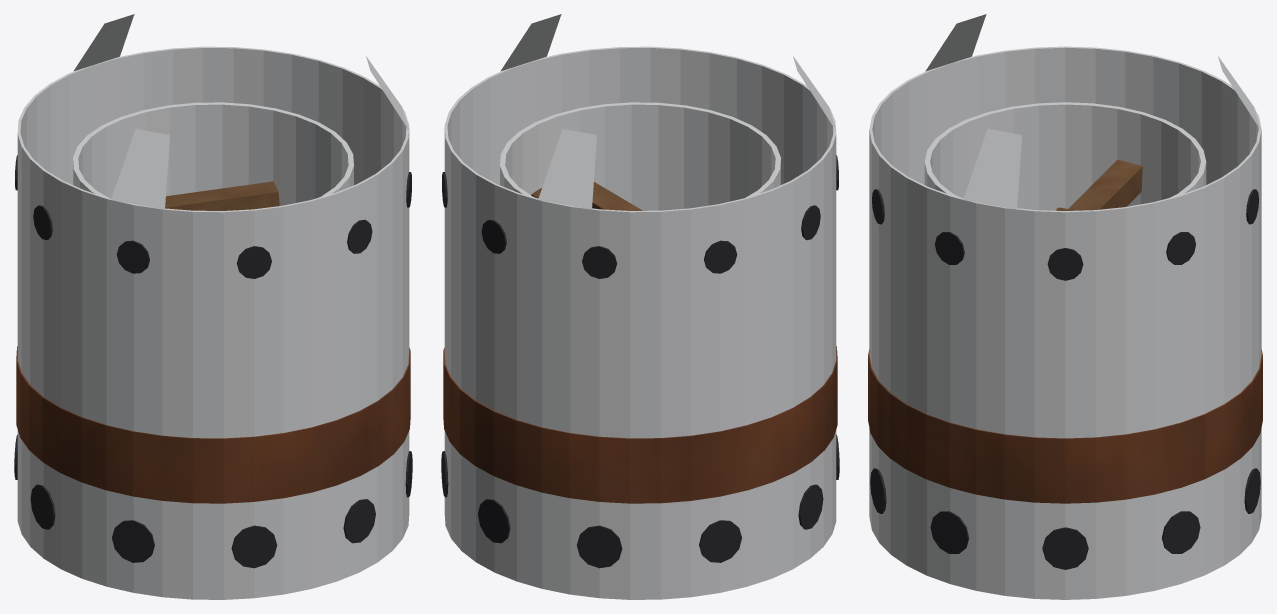
The model's file is fogareiro_lata.glb.
3 views of the same model, side by side, from view 1: azimuth 30°, elevation 25°; view 2: azimuth 150°, elevation 25°; view 3: azimuth 270°, elevation 25° (orthographic).
Visible parts, largest first — view 1: fogareiro_lata_lata, fogareiro_lata_ferrugem, fogareiro_lata_carvao, fogareiro_lata_madeira_lenha; view 2: fogareiro_lata_lata, fogareiro_lata_ferrugem, fogareiro_lata_carvao, fogareiro_lata_madeira_lenha; view 3: fogareiro_lata_lata, fogareiro_lata_ferrugem, fogareiro_lata_carvao, fogareiro_lata_madeira_lenha.
Part boxes in pixels (left/top/right/bottom): fogareiro_lata_lata: left=17, top=14, right=409, bottom=599; fogareiro_lata_ferrugem: left=16, top=346, right=410, bottom=503; fogareiro_lata_carvao: left=14, top=155, right=412, bottom=568; fogareiro_lata_madeira_lenha: left=165, top=181, right=279, bottom=210; fogareiro_lata_lata: left=444, top=14, right=836, bottom=599; fogareiro_lata_ferrugem: left=443, top=346, right=837, bottom=503; fogareiro_lata_carvao: left=441, top=155, right=839, bottom=568; fogareiro_lata_madeira_lenha: left=531, top=182, right=642, bottom=210; fogareiro_lata_lata: left=869, top=14, right=1261, bottom=599; fogareiro_lata_ferrugem: left=868, top=349, right=1262, bottom=503; fogareiro_lata_carvao: left=870, top=189, right=1260, bottom=569; fogareiro_lata_madeira_lenha: left=1055, top=159, right=1142, bottom=210.
Size of the model in its own units: 0.111 by 0.138 by 0.1108.
5 materials, 2 textured.
